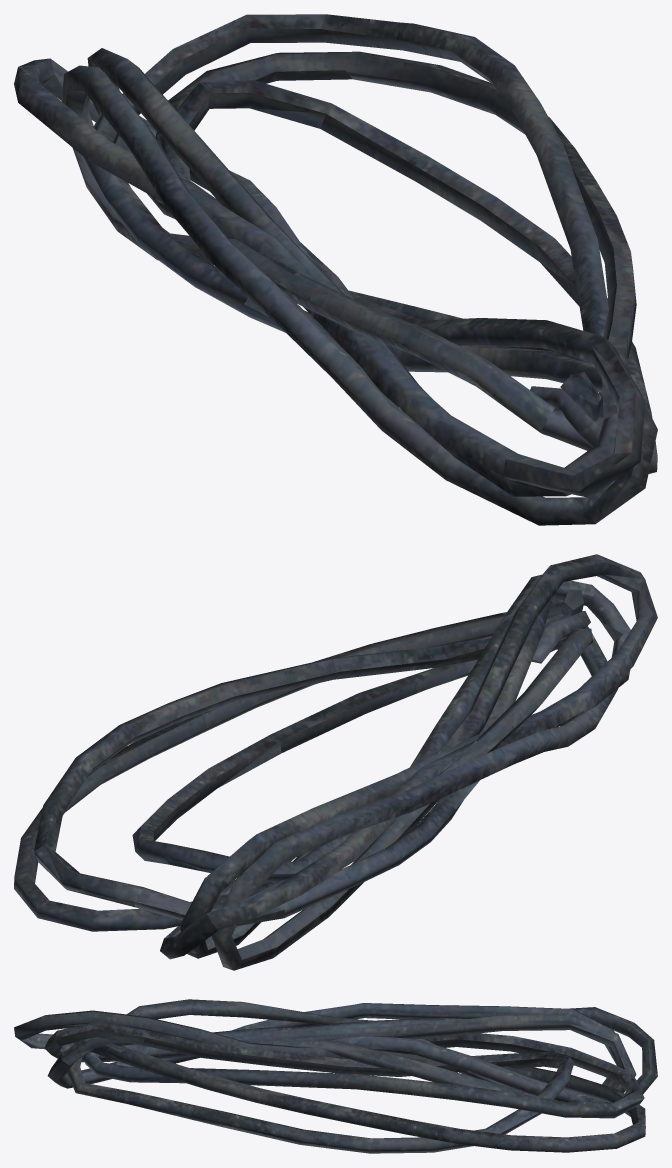
Rendered from Rope2.fbx.
The picture shows the model from 3 angles, top to bottom: view 1: azimuth 30°, elevation 25°; view 2: azimuth 150°, elevation 25°; view 3: azimuth 270°, elevation 25°; orthographic projection. The views are drawn at different scales.
Parts seen in each view (by area): view 1: mesh_0.1890; view 2: mesh_0.1890; view 3: mesh_0.1890.
Boxes of the visible parts, left/top/right/bottom form: mesh_0.1890: left=14, top=14, right=657, bottom=525; mesh_0.1890: left=14, top=554, right=657, bottom=970; mesh_0.1890: left=14, top=999, right=657, bottom=1153.
Bounding box in the file's own units: 0.4701 × 0.2003 × 1.11.
